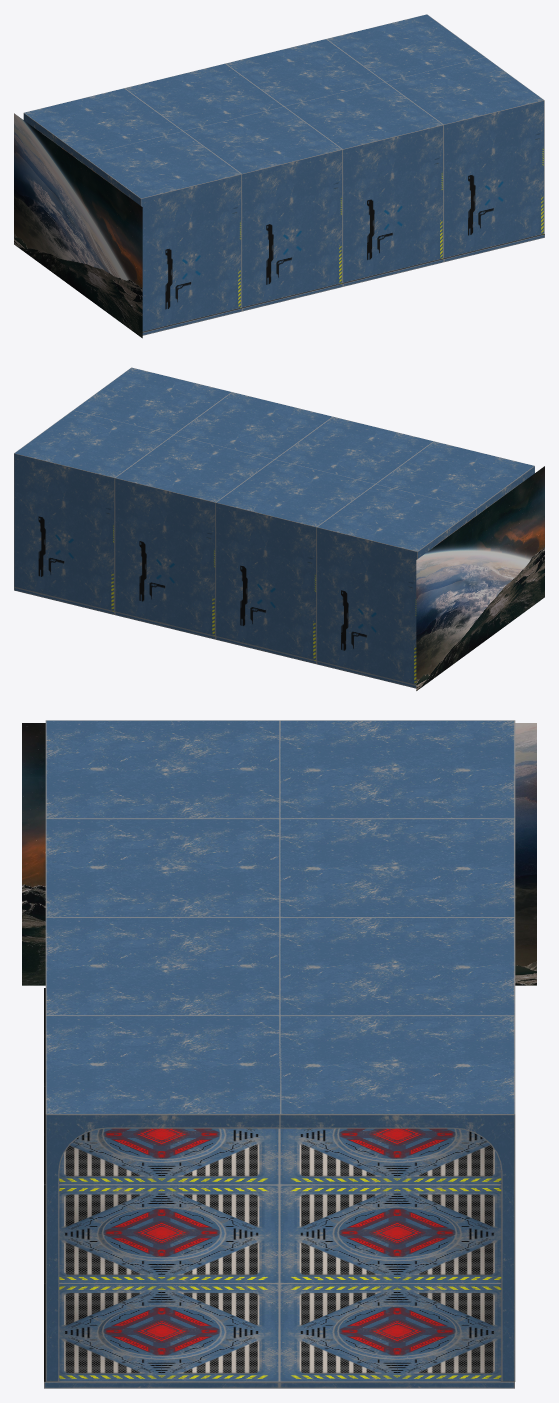
File: station2.glb
3 views of the same model, one above another, from view 1: azimuth 30°, elevation 25°; view 2: azimuth 150°, elevation 25°; view 3: azimuth 270°, elevation 25° (orthographic). The views are drawn at different scales.
Parts seen in each view (by area): view 1: Cube.004_Cube.000_5, Cube.004_Cube.013_3, Stars-Space_4, Cube.006_Cube.016_2; view 2: Cube.004_Cube.013_3, Cube.004_Cube.000_5, Stars-Space_4, Cube.006_Cube.016_2; view 3: Cube.006_Cube.016_2, Cube.004_Cube.013_3, Cube.004_Cube.000_5, Stars-Space_4.
Part boxes in pixels (x1,y1,x2,y2): Cube.004_Cube.000_5: [82, 57, 544, 331]; Cube.004_Cube.013_3: [23, 14, 484, 192]; Stars-Space_4: [14, 113, 142, 338]; Cube.006_Cube.016_2: [142, 234, 544, 335]; Cube.004_Cube.013_3: [14, 410, 475, 685]; Cube.004_Cube.000_5: [73, 367, 534, 547]; Stars-Space_4: [416, 466, 544, 690]; Cube.006_Cube.016_2: [14, 587, 416, 688]; Cube.006_Cube.016_2: [44, 988, 514, 1388]; Cube.004_Cube.013_3: [279, 720, 515, 1381]; Cube.004_Cube.000_5: [45, 720, 281, 1381]; Stars-Space_4: [22, 723, 536, 985].
Bounding box in the file's own units: 8.32 × 2.67 × 4.55.
2 materials, 2 textured.
